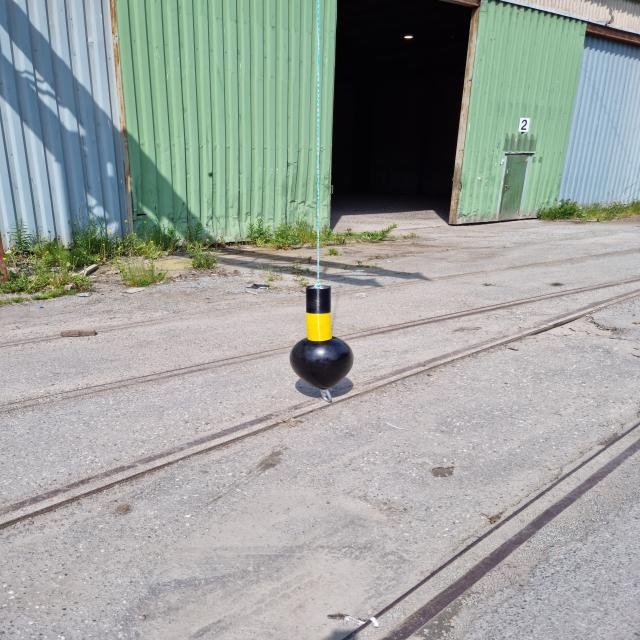east: (289, 284, 354, 390)
